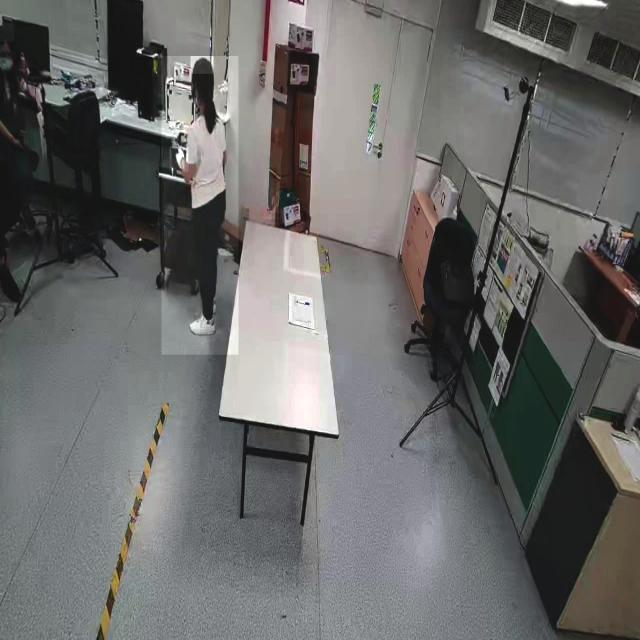hand_glove: (170, 146, 188, 172)
hand_noglove: (11, 136, 25, 152)
head_nohelmet: (190, 56, 214, 75), (0, 23, 14, 43)
person: (161, 56, 239, 356)
shoes: (186, 309, 218, 339)
